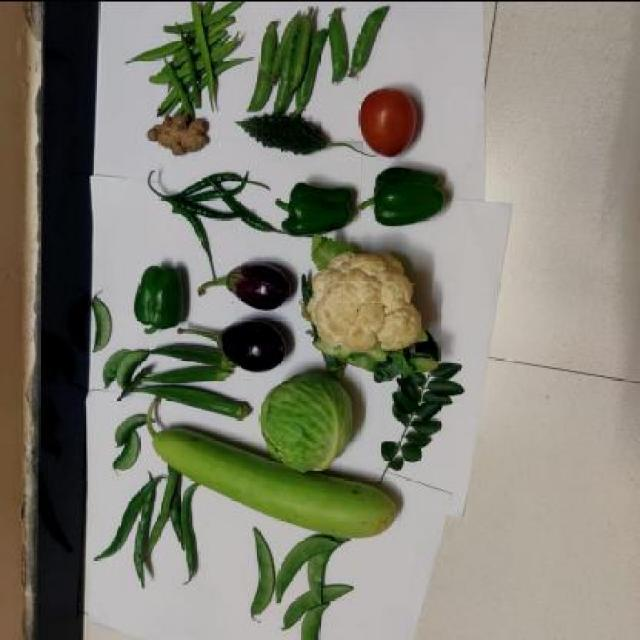Bitter melon: (234, 110, 357, 164)
Brinjal: (202, 314, 290, 378), (198, 256, 302, 310)
Cabbage: (252, 368, 357, 474)
Calabash: (151, 426, 394, 549)
Capsicum: (356, 163, 450, 231), (278, 171, 356, 240), (134, 254, 194, 334)
Cauliflower: (306, 244, 442, 380)
Ginger: (148, 110, 214, 164)
Green Chili: (144, 168, 270, 257)
Lady finger: (146, 342, 246, 418)
Tomato: (357, 82, 428, 162)
